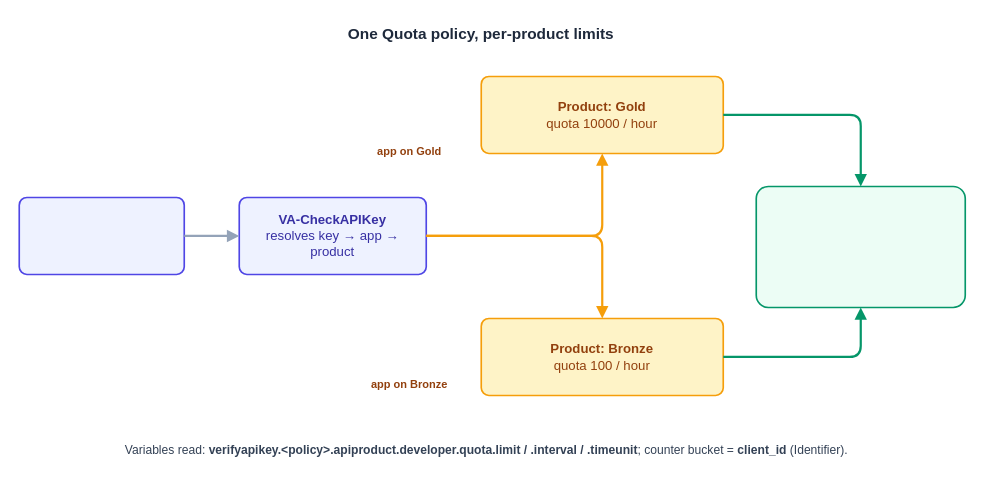
Some shapes in this 986 by 491 pixel diagram are drawn without their labels. The shapes that lost their labels are listed below. From the top down, each one's centre as x and y in pixels, then its label:
At (x=101, y=235): "Request ?apikey=…".
At (x=860, y=246): "Quota-ByProduct countRef → product quota.limit Identifier → client_id".
